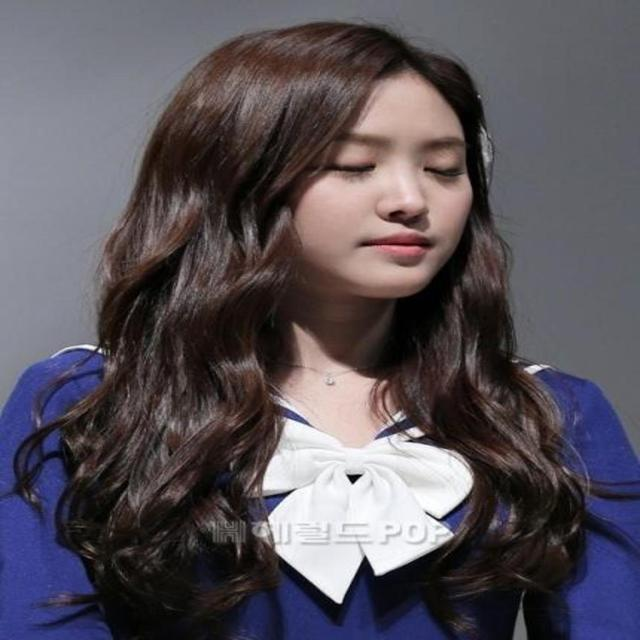Face: (256, 79, 491, 301)
